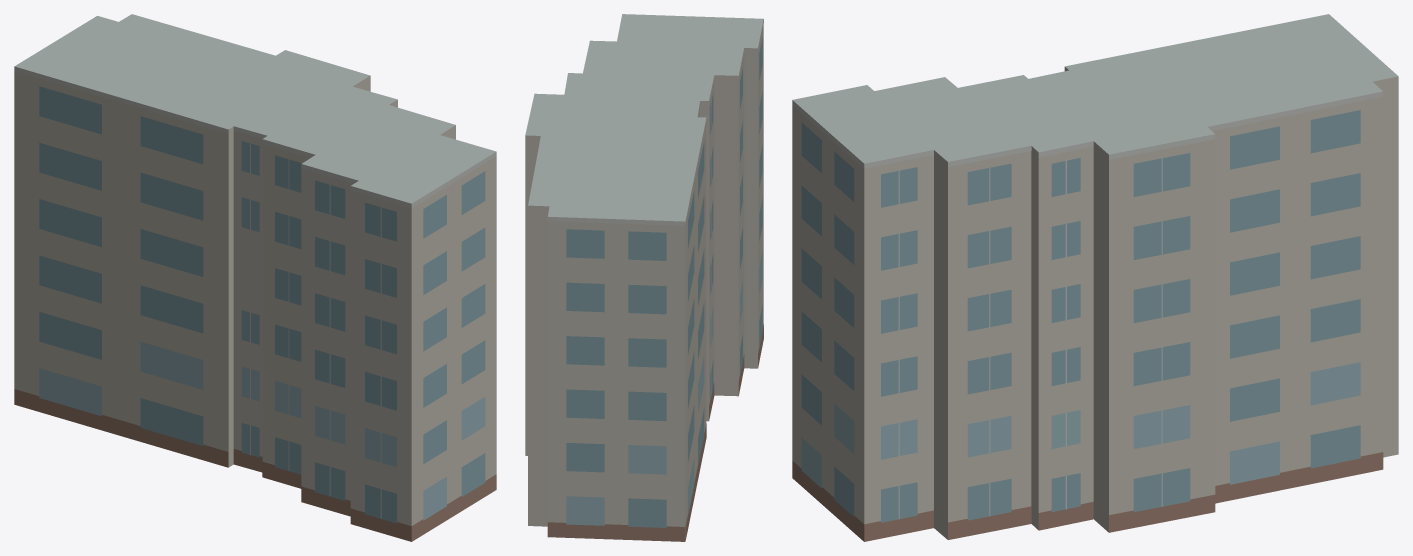
File: survey-upis-32699800.glb
3 views of the same model, side by side, from view 1: azimuth 30°, elevation 25°; view 2: azimuth 150°, elevation 25°; view 3: azimuth 270°, elevation 25° (orthographic). The views are drawn at different scales.
Parts seen in each view (by area): view 1: survey-upis-32699800.tmp; view 2: survey-upis-32699800.tmp; view 3: survey-upis-32699800.tmp.
Boxes of the visible parts, bbox=[...] form: survey-upis-32699800.tmp: bbox=[14, 14, 496, 541]; survey-upis-32699800.tmp: bbox=[525, 14, 763, 541]; survey-upis-32699800.tmp: bbox=[792, 14, 1398, 541].
Size of the model in its own units: 15.21 by 17.9 by 26.02.
